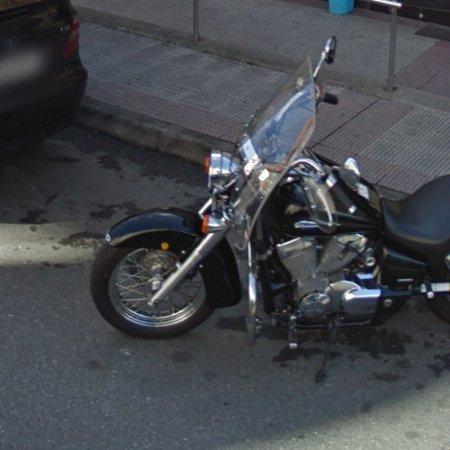motorcycles: (91, 37, 450, 348)
